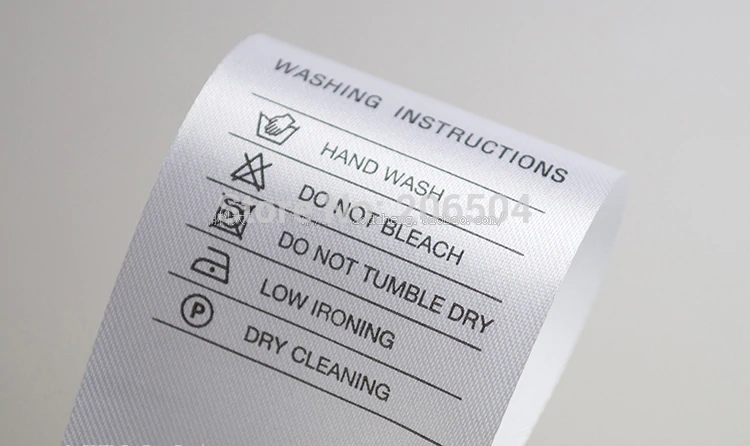do_not_dry_clean: (224, 224, 250, 247)
do_not_iron: (223, 12, 250, 32)
do_not_wash: (38, 44, 68, 62)
